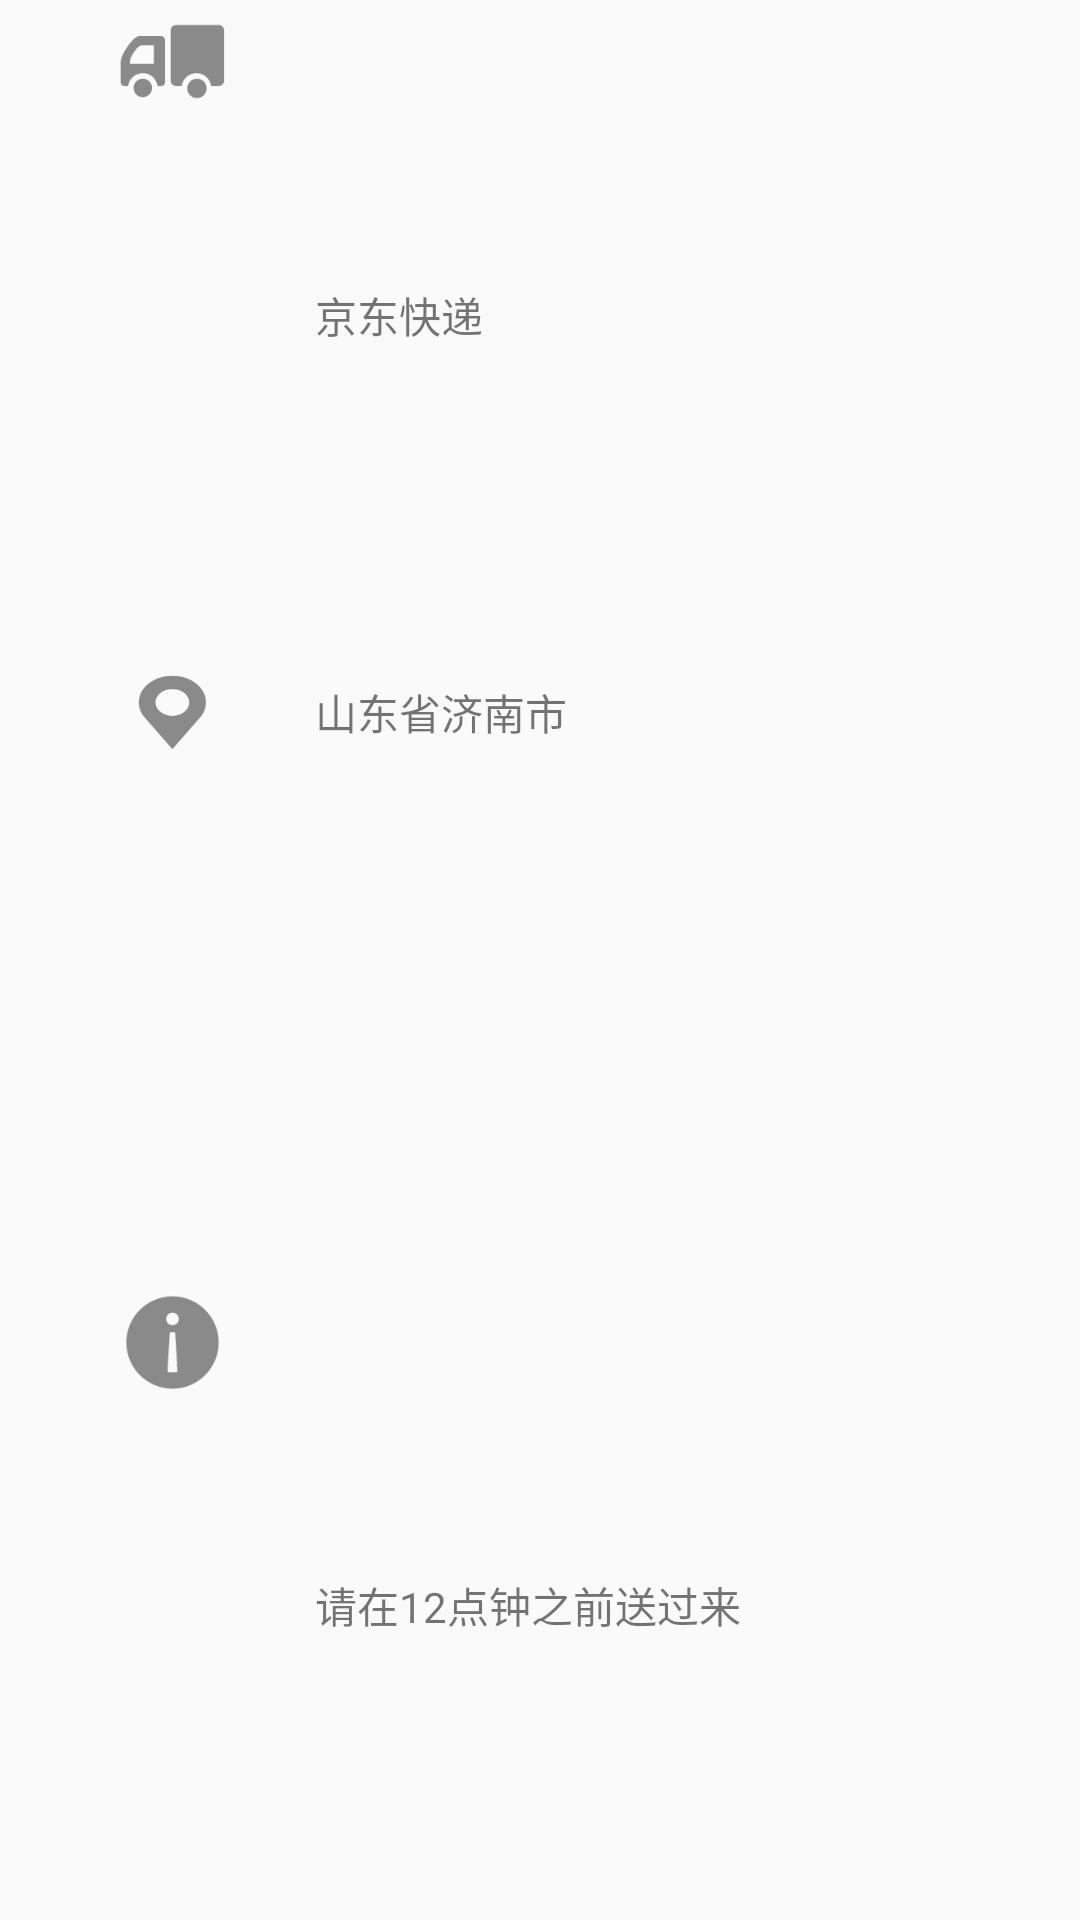

Icons on this 1080*1920 Android screen, each with its box as (x1,y1,x2,y2):
express: (120,25,224,98)
